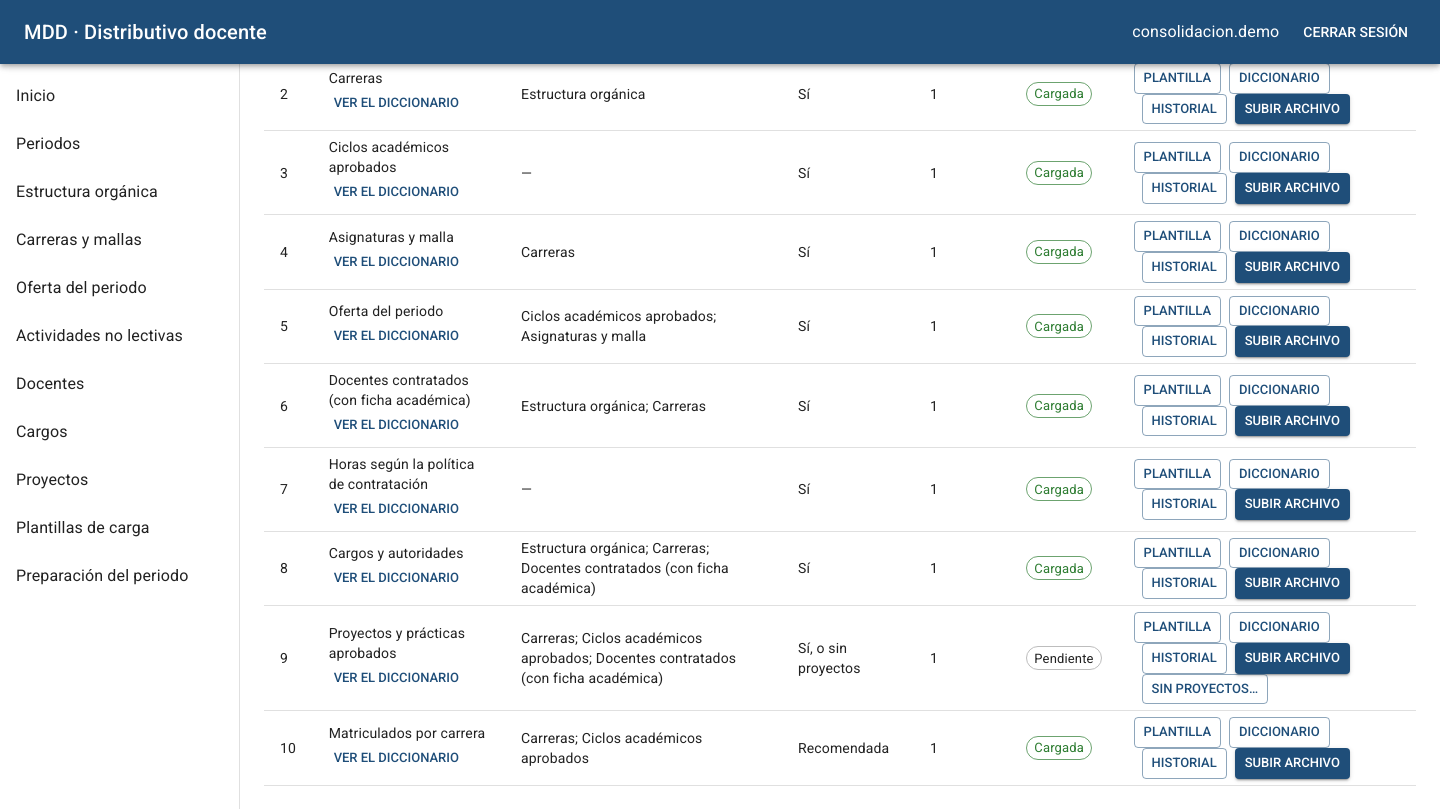
Test: Plantillas de carga › «Sin proyectos…» › confirma un periodo y la carga de proyectos queda «sin proyectos»
(page scrolled)
Click the button named "Confirmar un periodo sin proyectos en Proyectos y prácticas aprobados" at (1205, 689), box [1142,674,1268,704]
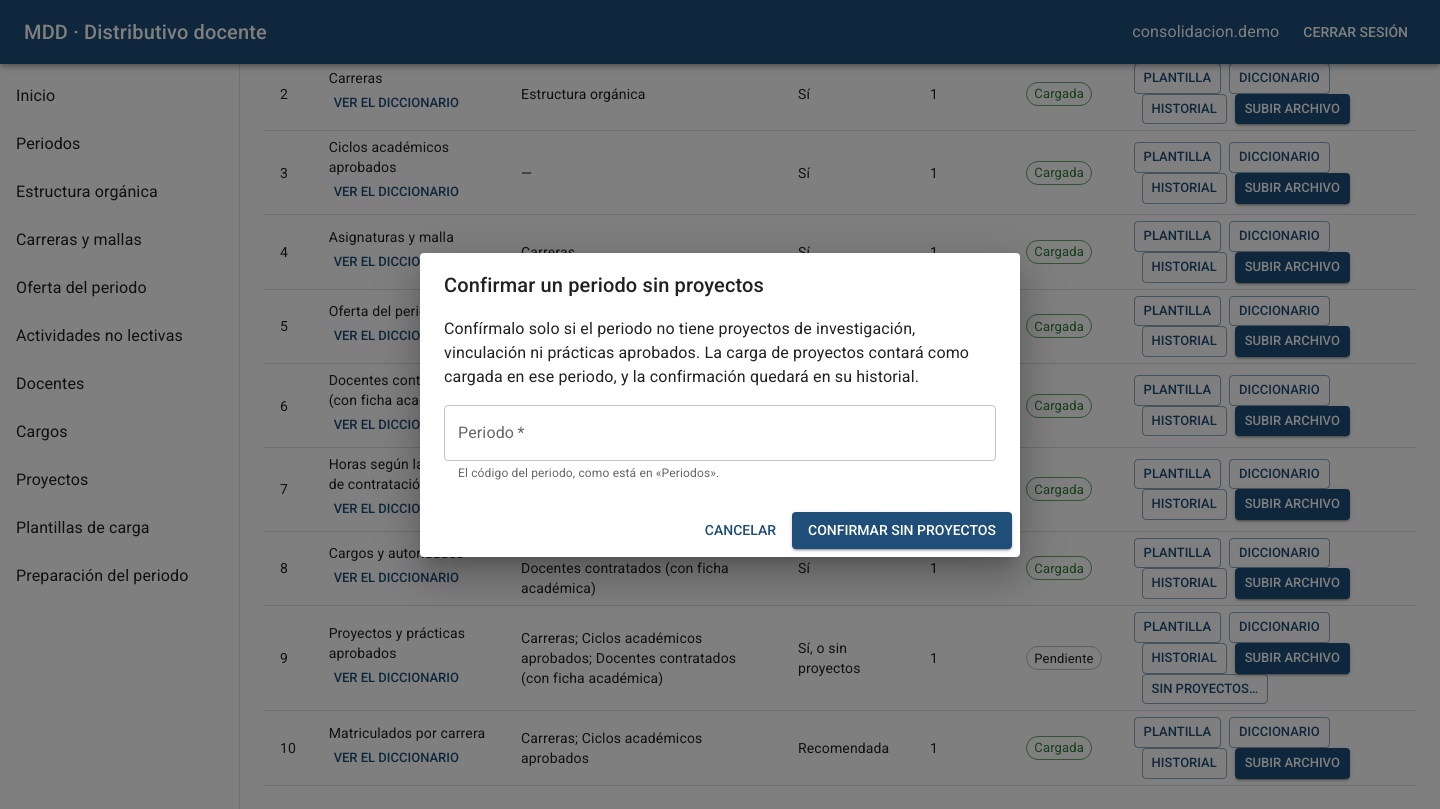
Type "2026-II" into the field labelled "Periodo *" at (720, 433), box [444,405,996,461]
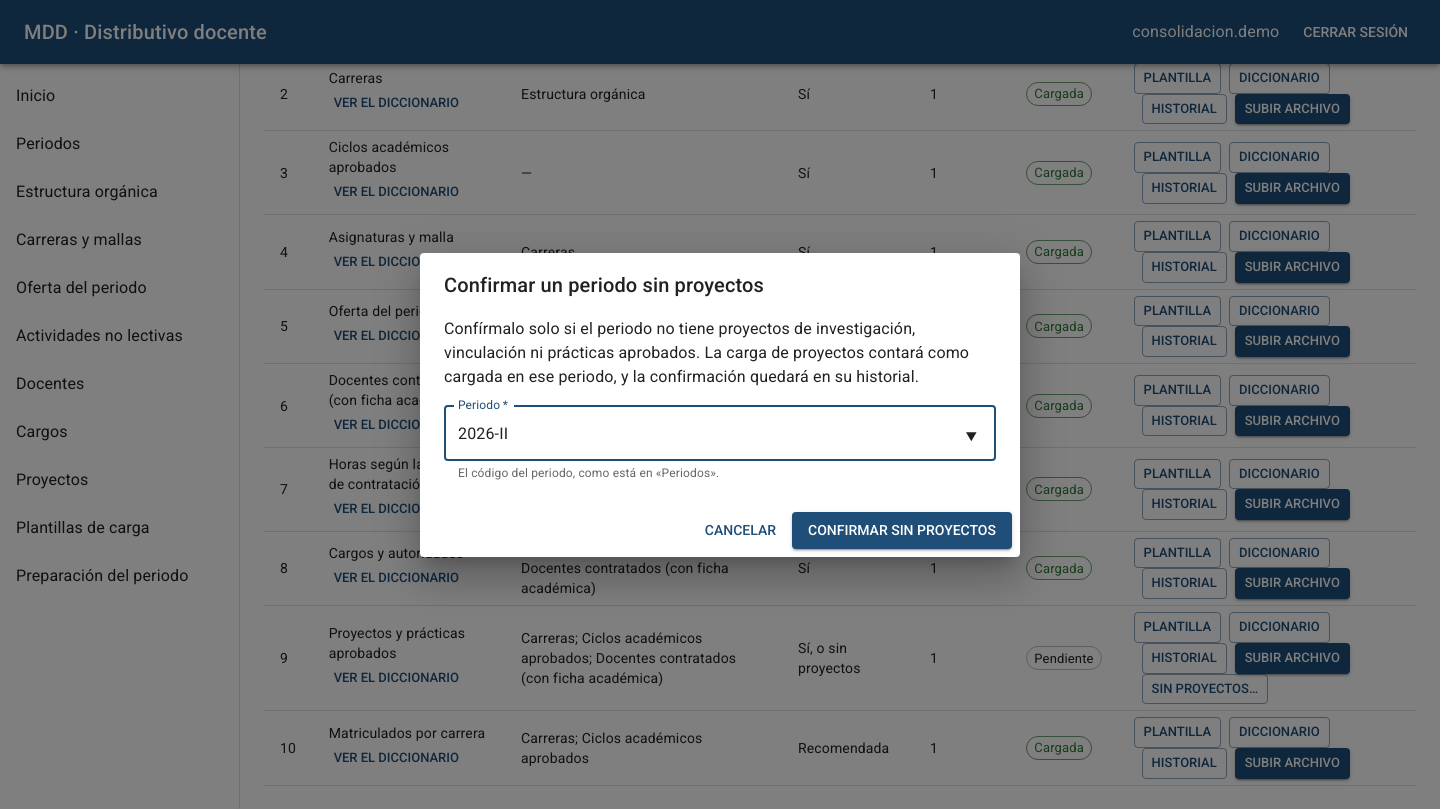
Click the button "Confirmar sin proyectos" at (902, 530), box [792,512,1012,549]
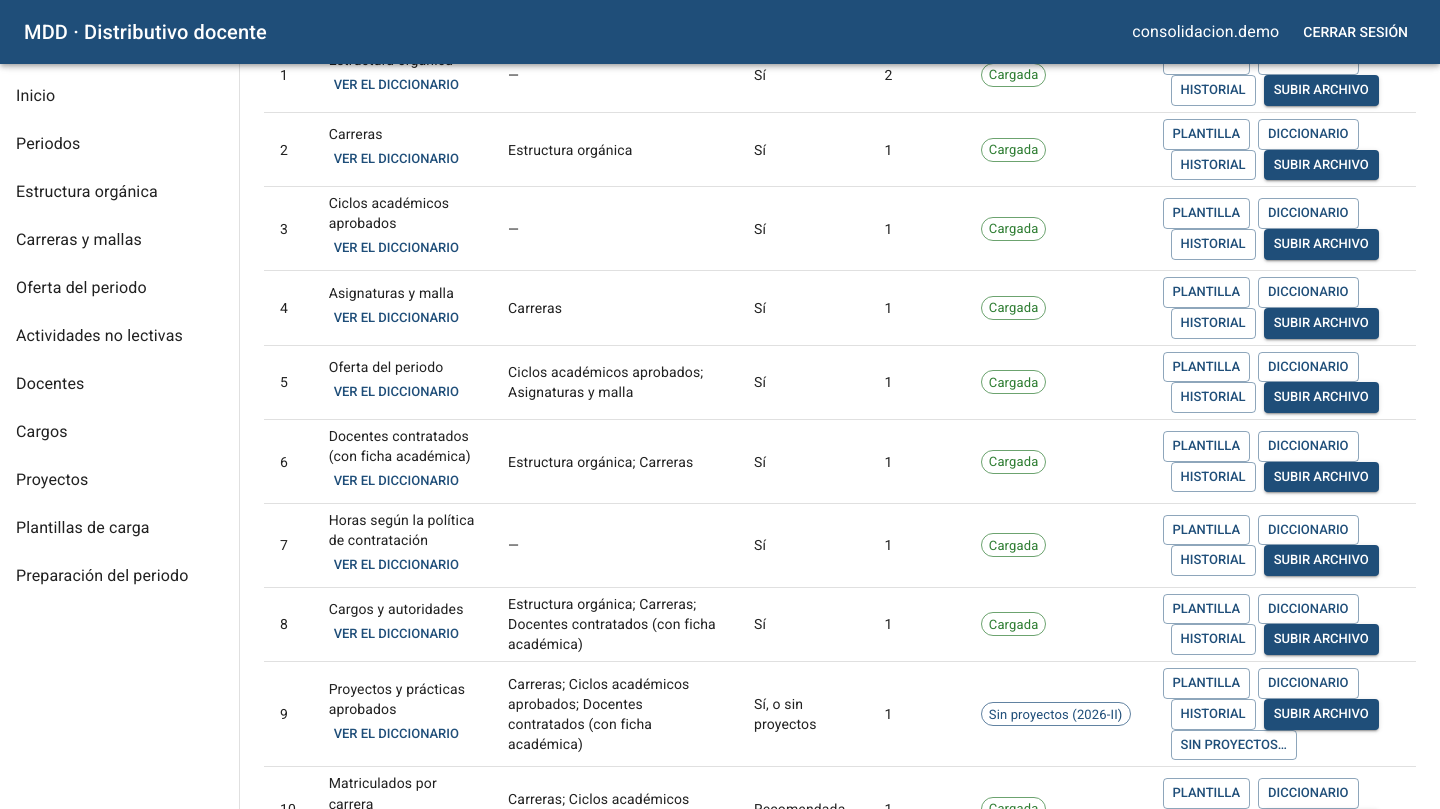
expect the dialog is gone: met
expect the row that starts with "Proyectos y prácticas aprobados" shows "Sin proyectos (2026-II)": met, box [989,707,1123,722]
